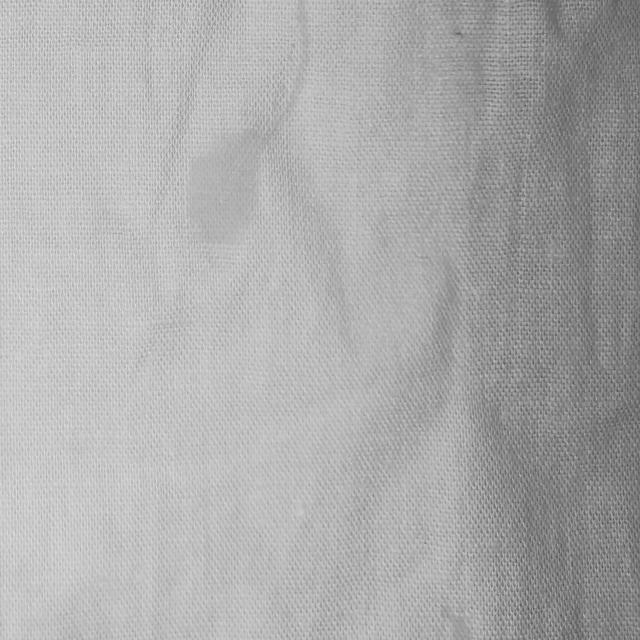Stain: (181, 0, 309, 245), (442, 607, 474, 640)
